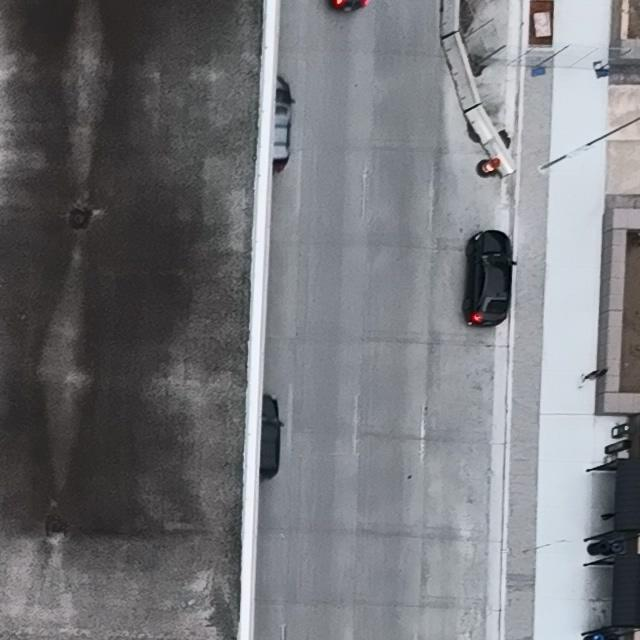car: (461, 229, 516, 328), (260, 394, 286, 478)
